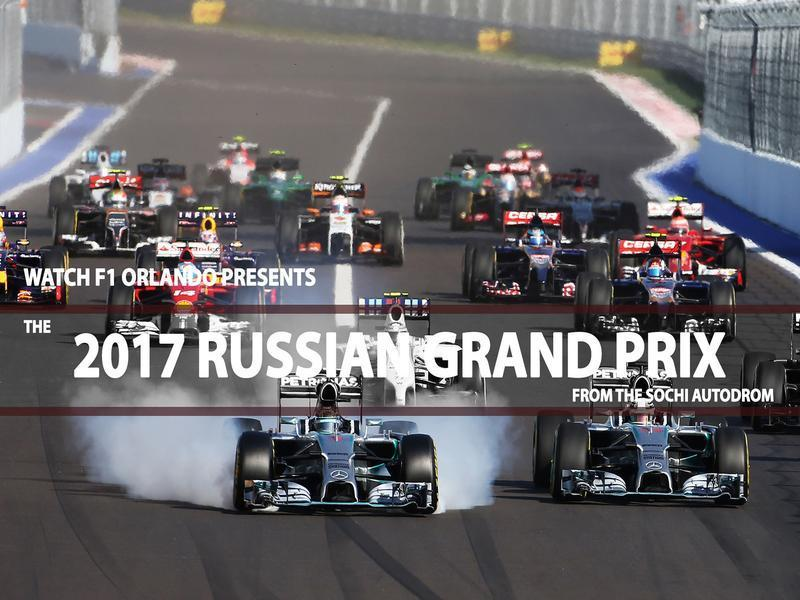f1: (529, 376, 763, 525), (225, 368, 446, 511), (570, 254, 773, 352), (111, 250, 293, 357), (455, 215, 611, 306), (630, 190, 777, 280), (278, 175, 418, 263), (422, 135, 529, 225), (49, 184, 168, 261)
